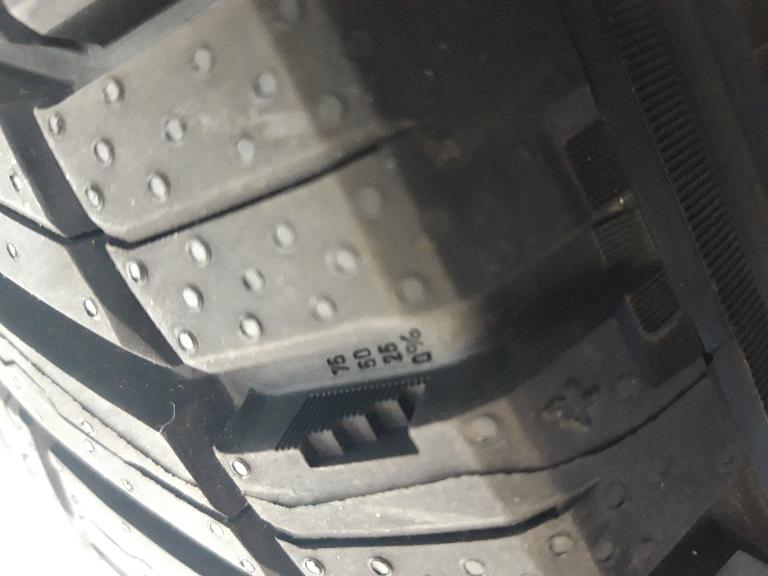temoin:100: (274, 372, 434, 472)
